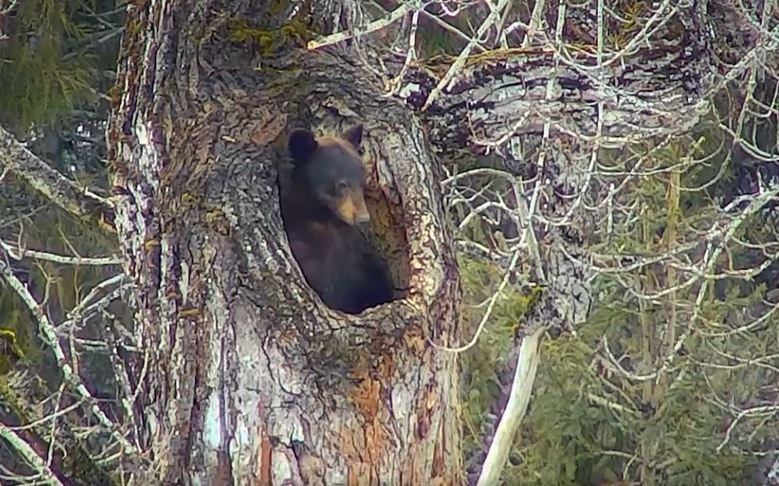bear: (280, 121, 381, 232)
